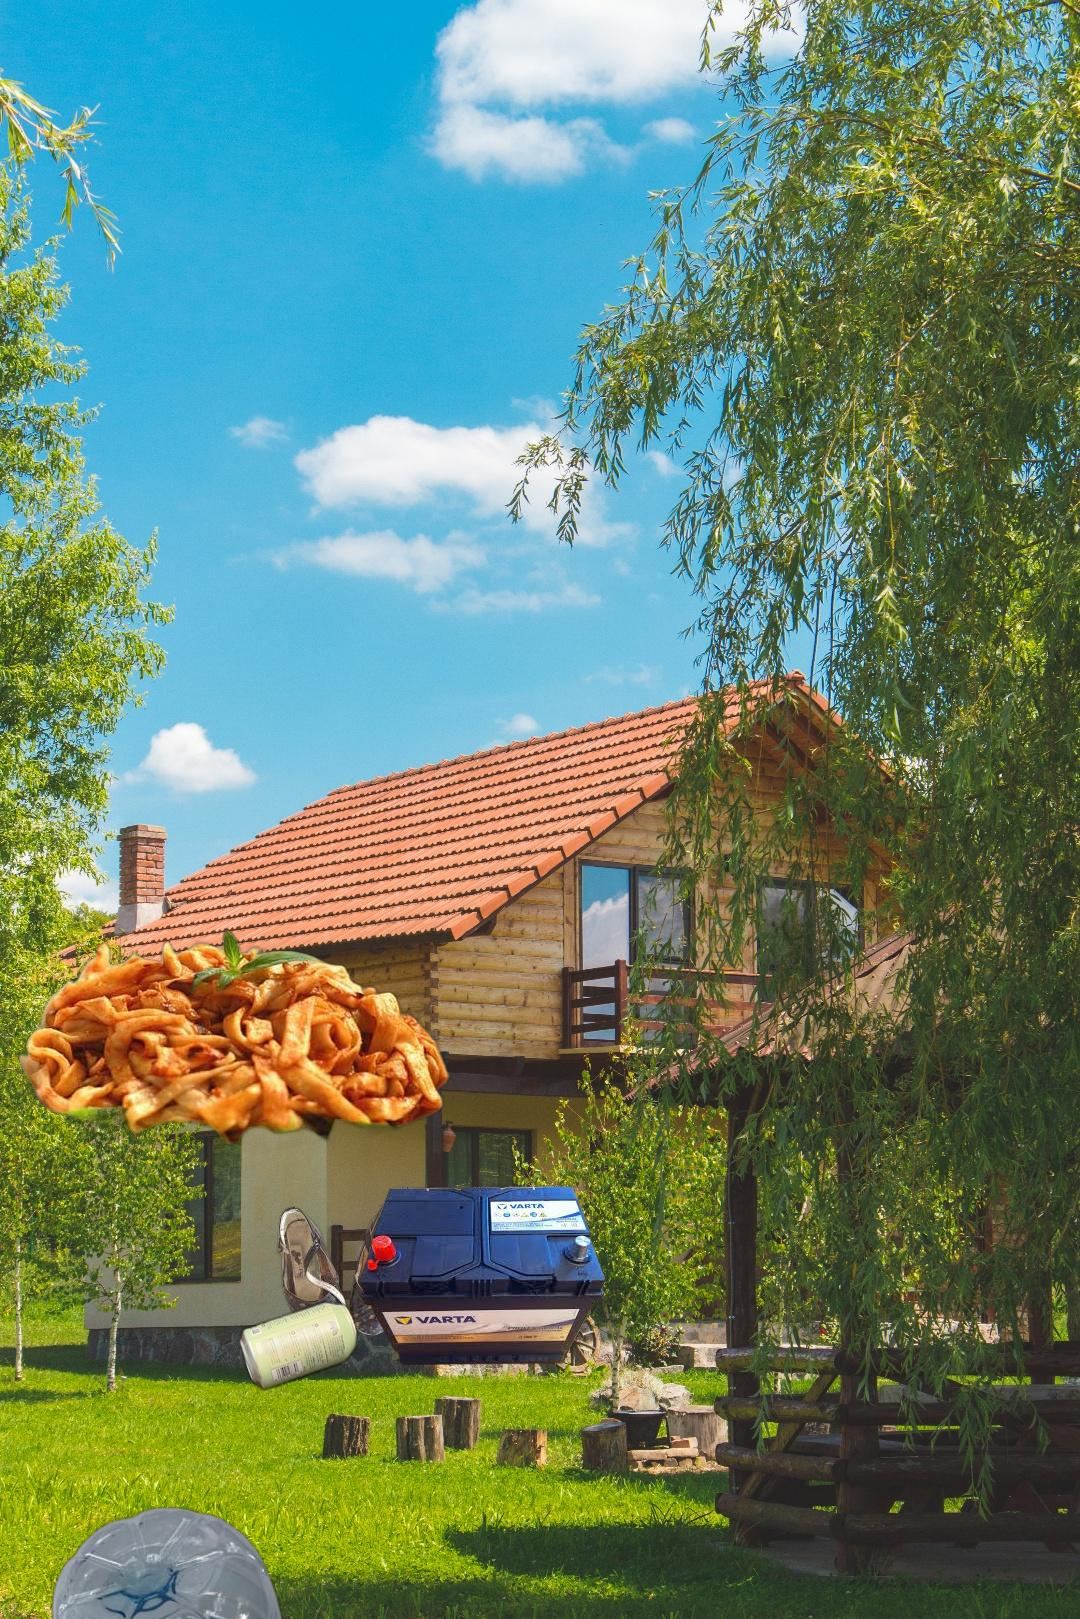battery: (356, 1179, 607, 1368)
biological: (13, 926, 453, 1161)
metal-cans: (235, 1296, 362, 1395)
plastic-bottles: (48, 1504, 306, 1619)
shoes: (274, 1198, 413, 1345)
